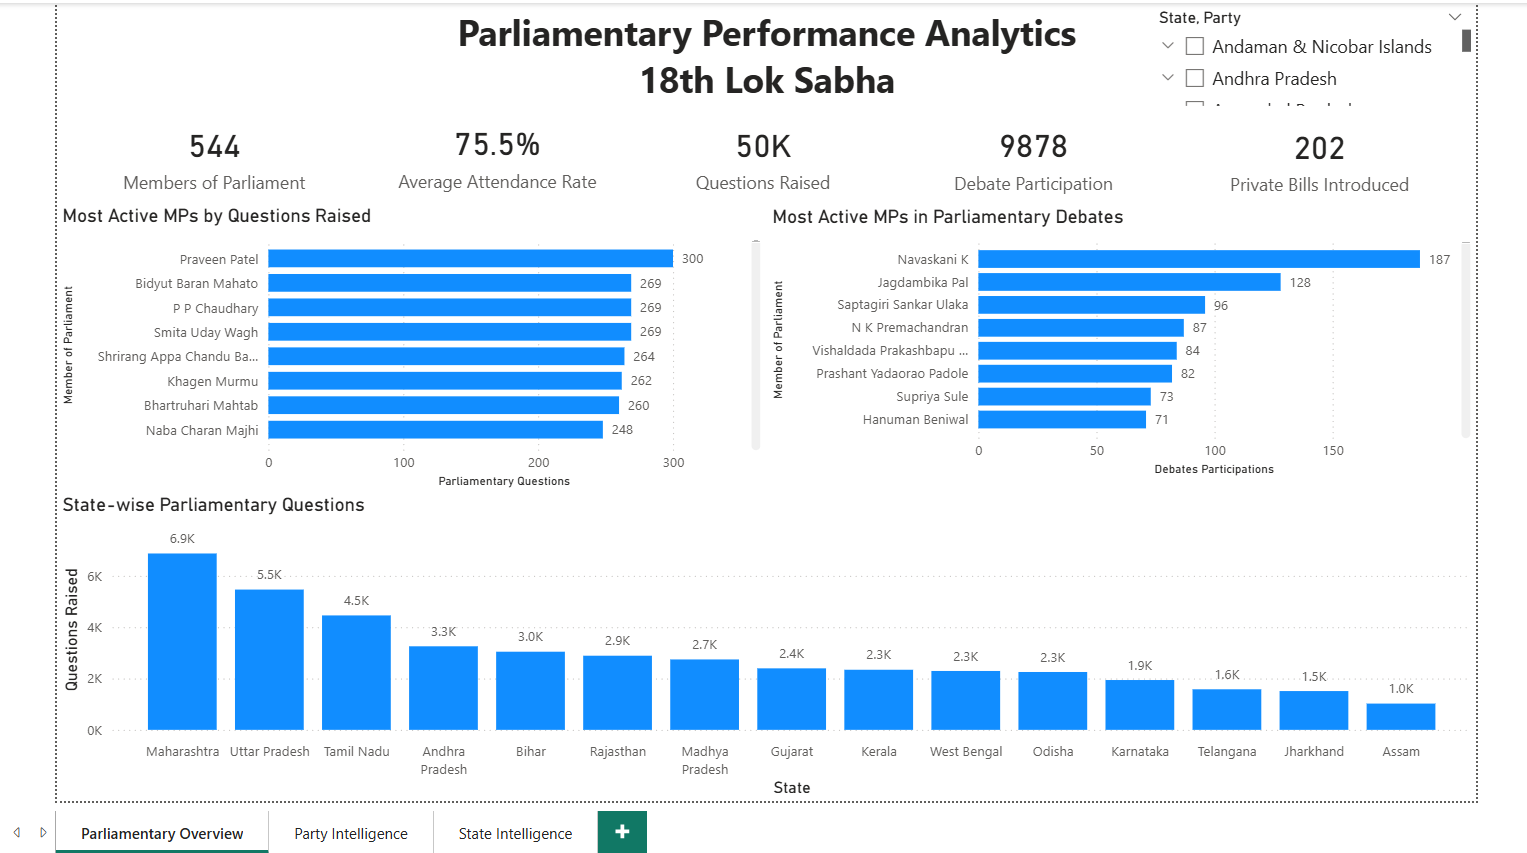

The page's visual inventory and layout, read from the dashboard file:
{"tool":"powerbi","page":{"name":"Parliamentary Overview","canvas":[1280,720],"ordinal":0},"visuals":[{"type":"textbox","box":[0,0,1280,95.8],"z":0},{"type":"card","fields":{"Values":["Count(MP_Clean.MP Name)"]},"box":[0,95.8,283.6,83.3],"z":1000},{"type":"card","fields":{"Values":["Avg(MP_Clean.Attendance %)"]},"box":[283.6,94.5,226.4,83.3],"z":2000},{"type":"card","fields":{"Values":["Sum(MP_Clean.Questions)"]},"box":[510,95.8,252.5,83.3],"z":3000},{"type":"card","fields":{"Values":["Sum(MP_Clean.Debates)"]},"box":[762.5,95.8,235.1,84.6],"z":4000},{"type":"card","fields":{"Values":["Sum(MP_Clean.Private Member Bills)"]},"box":[997.7,97,282.4,84.6],"z":5000},{"type":"clusteredBarChart","title":"Top 10 MPs by Questions Asked","fields":{"Category":["MP_Clean.MP Name"],"Y":["Sum(MP_Clean.Questions)"]},"box":[0,181.1,639.5,260.7],"z":6000},{"type":"clusteredBarChart","title":"Top 10 MPs by Debates Participated","fields":{"Category":["MP_Clean.MP Name"],"Y":["Sum(MP_Clean.Debates)"]},"box":[640.6,182.9,639.4,248.8],"z":7000},{"type":"clusteredColumnChart","title":"Questions Asked by State","fields":{"Category":["MP_Clean.State"],"Y":["Sum(MP_Clean.Questions)"]},"box":[0,441.9,1280.3,278.6],"z":8000},{"type":"slicer","fields":{"Values":["MP_Clean.State","MP_Clean.Party"]},"box":[981.1,0,299.1,97.4],"z":9000}]}

Visuals, with their boxes on the page's 1280x720 design canvas (x1, y1, x2, y2). These are canvas units, not pixel positions in the 1527x853 screenshot, which may show the page scaled, cropped or inside an application window:
textbox: <box>0,0,1280,96</box>
card - Count(MP_Clean.MP Name): <box>0,96,284,179</box>
card - Avg(MP_Clean.Attendance %): <box>284,94,510,178</box>
card - Sum(MP_Clean.Questions): <box>510,96,762,179</box>
card - Sum(MP_Clean.Debates): <box>762,96,998,180</box>
card - Sum(MP_Clean.Private Member Bills): <box>998,97,1280,182</box>
"Top 10 MPs by Questions Asked" clusteredBarChart: <box>0,181,640,442</box>
"Top 10 MPs by Debates Participated" clusteredBarChart: <box>641,183,1280,432</box>
"Questions Asked by State" clusteredColumnChart: <box>0,442,1280,720</box>
slicer - MP_Clean.State x MP_Clean.Party: <box>981,0,1280,97</box>
